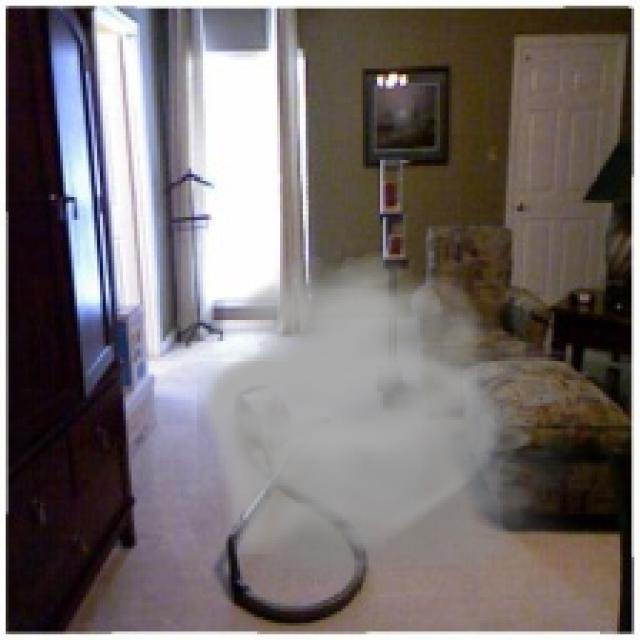smoke: (197, 251, 606, 600)
